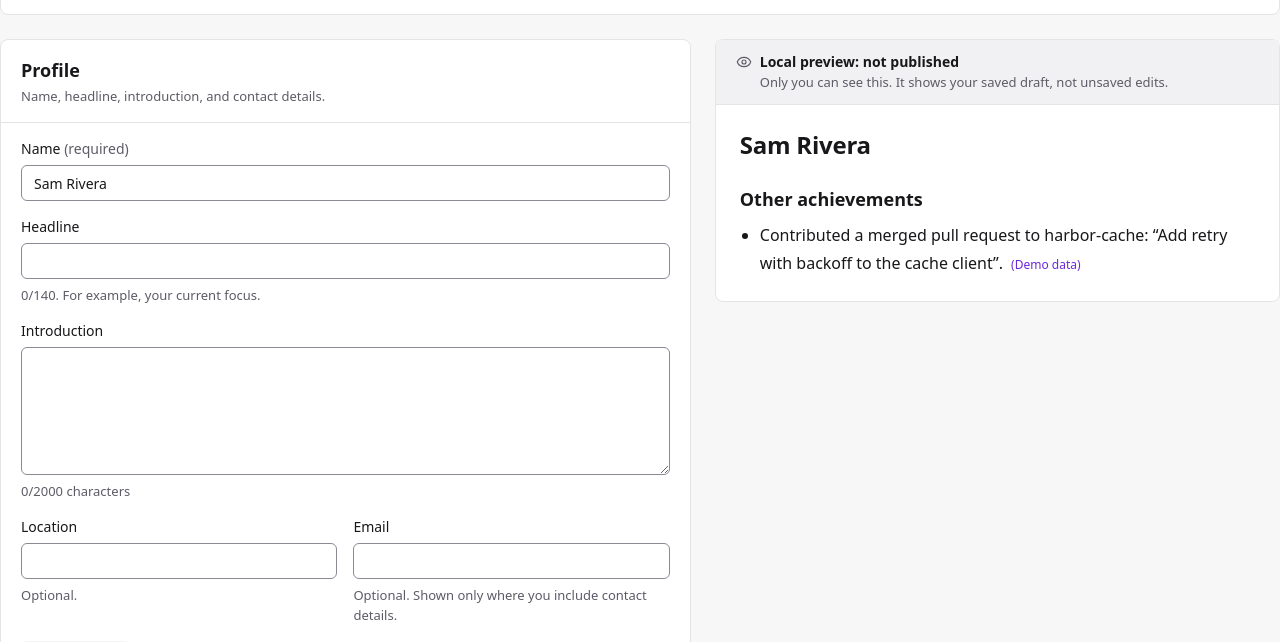
Test: PortfolioEditor (T6.1–T6.6) › shows unsaved edits, then saves the profile
The width and height of the screenshot is (1280, 642).
In the text box labelled "Introduction": (345, 411) [21, 347, 670, 475], type "I build tools."
(page scrolled)
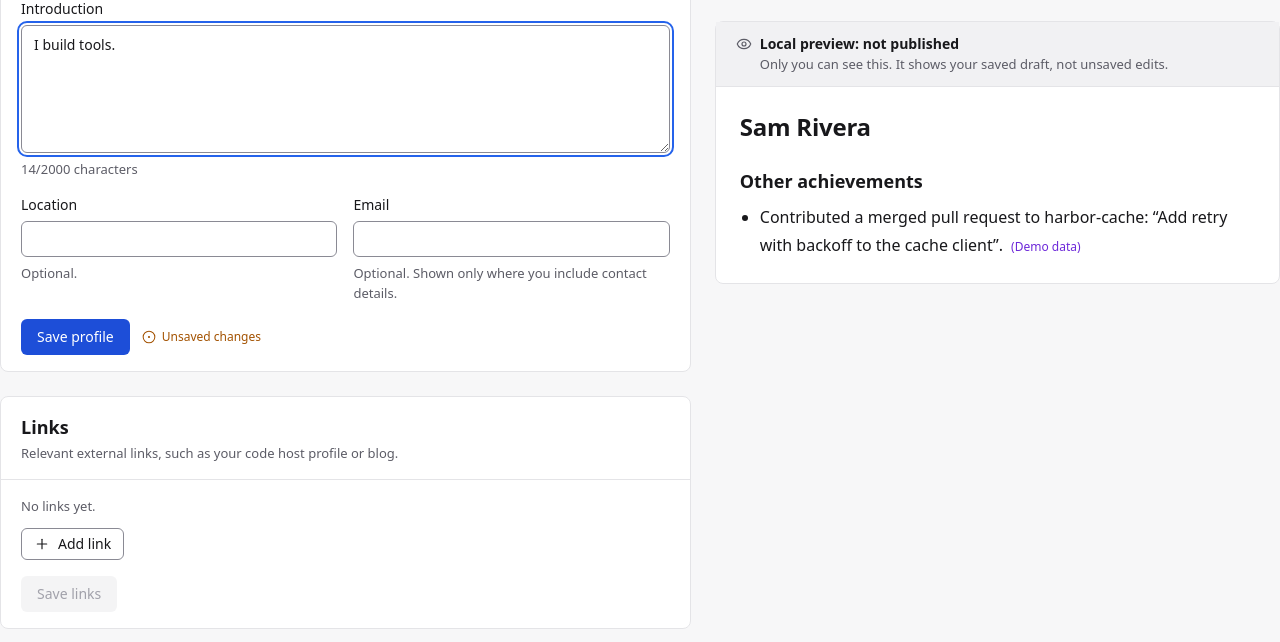
expect the text "Unsaved changes" is shown: met, box [142, 329, 261, 345]
Click the button "Save profile": (75, 337) [21, 319, 130, 355]
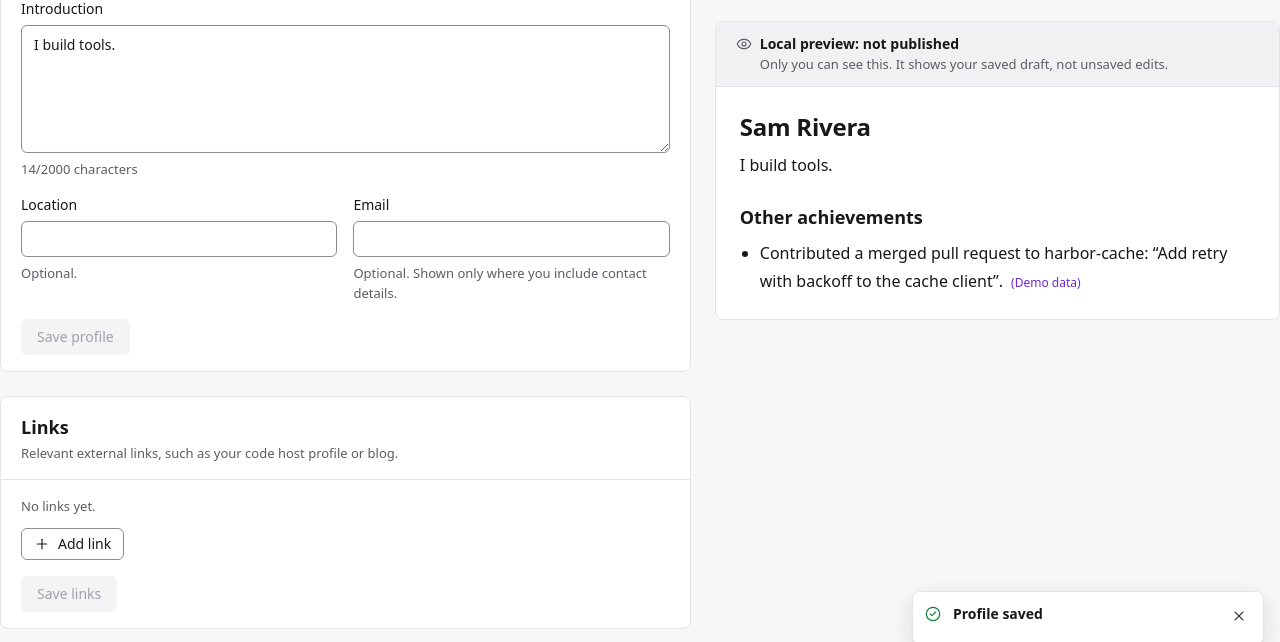
expect the text "Profile saved" is shown: met, box [953, 604, 1043, 623]
expect the text "Unsaved changes" is gone: met
